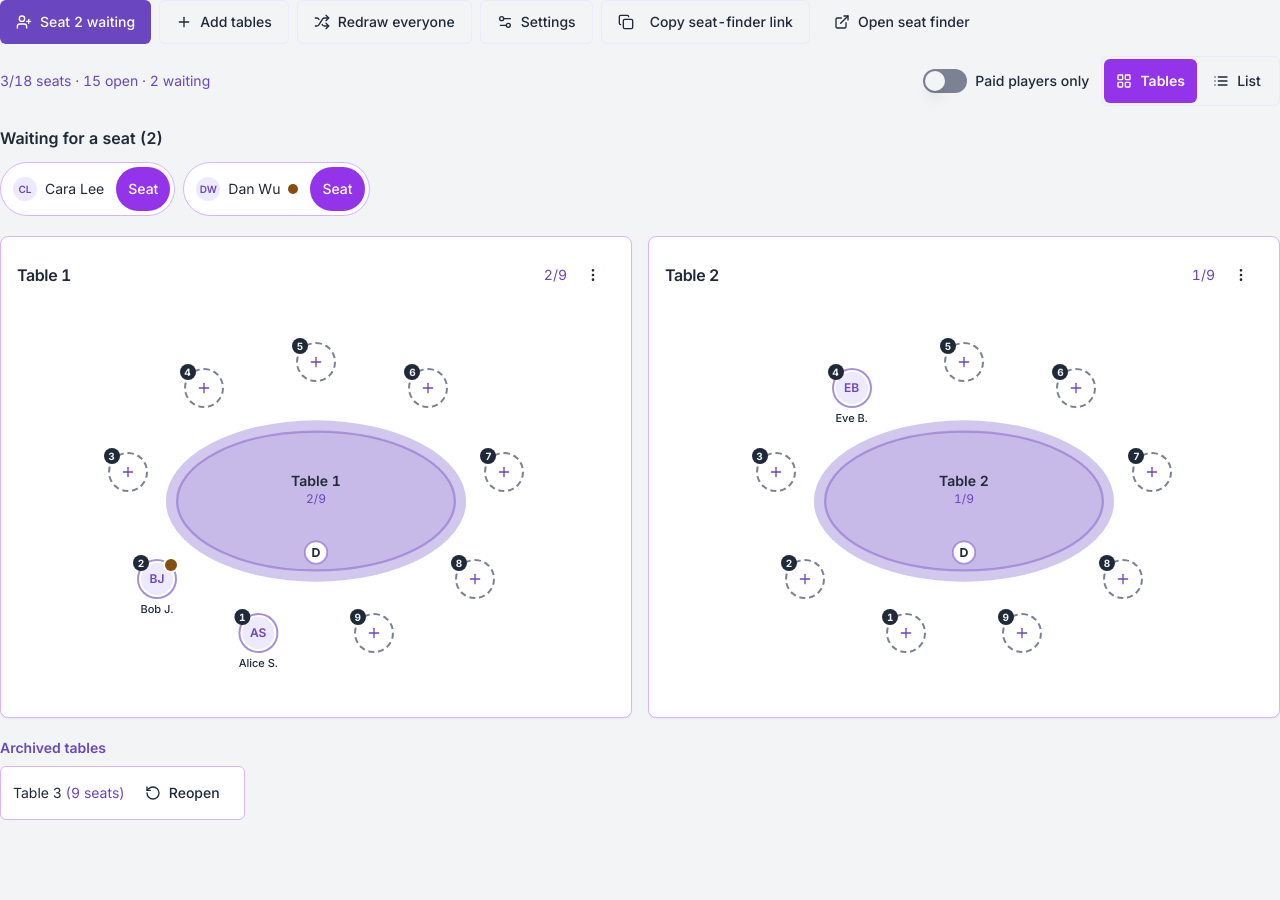
Test case: SeatingPanel: setting up › adds tables numbered after the highest, archived ones included
The image size is (1280, 900).
Click the button "Add tables": [224, 22] box [159,0,289,44]
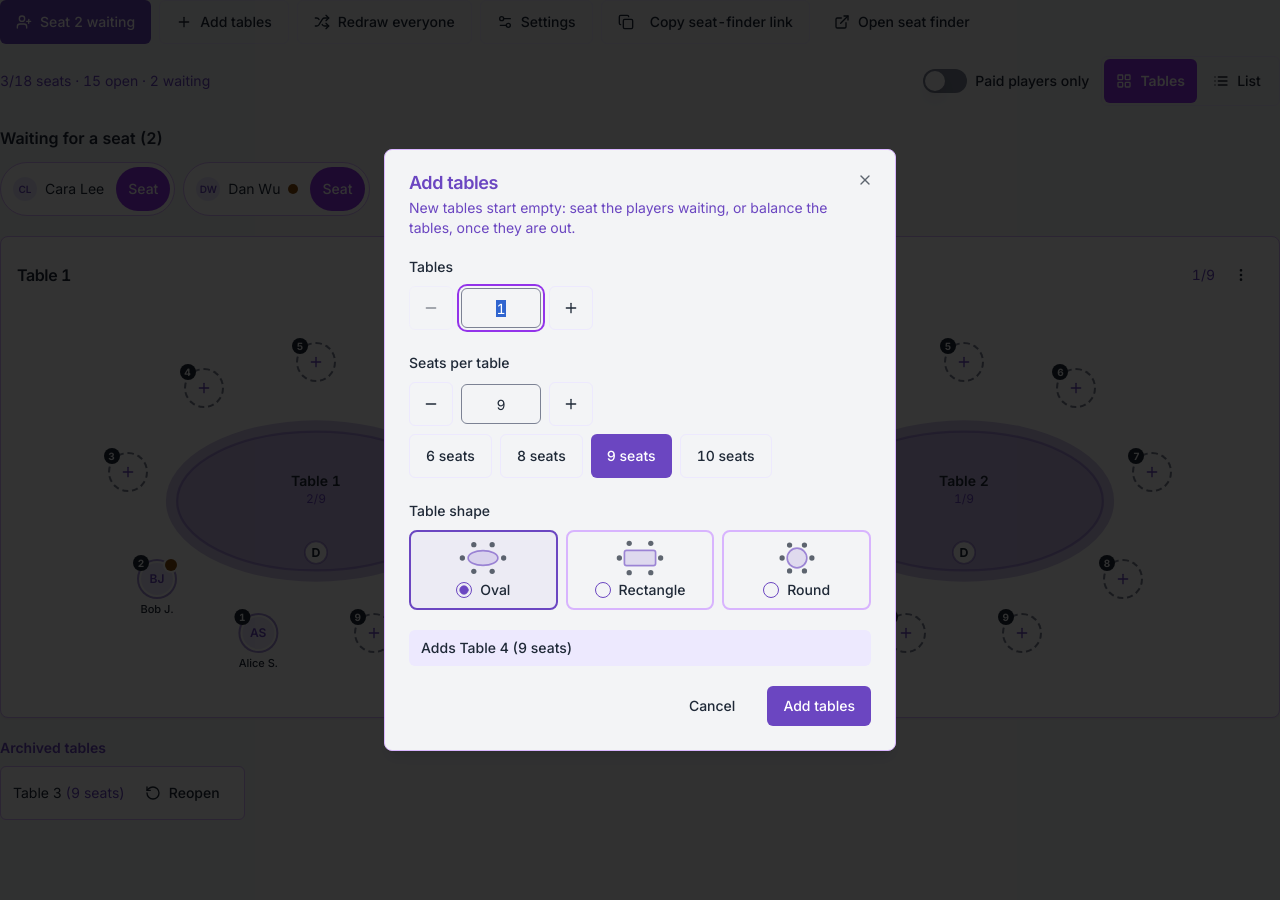
Expected: the text "Adds Table 4 (9 seats)" is shown, [409,630,871,666]
Click the button named "More tables": [571, 308] box [549,286,593,330]
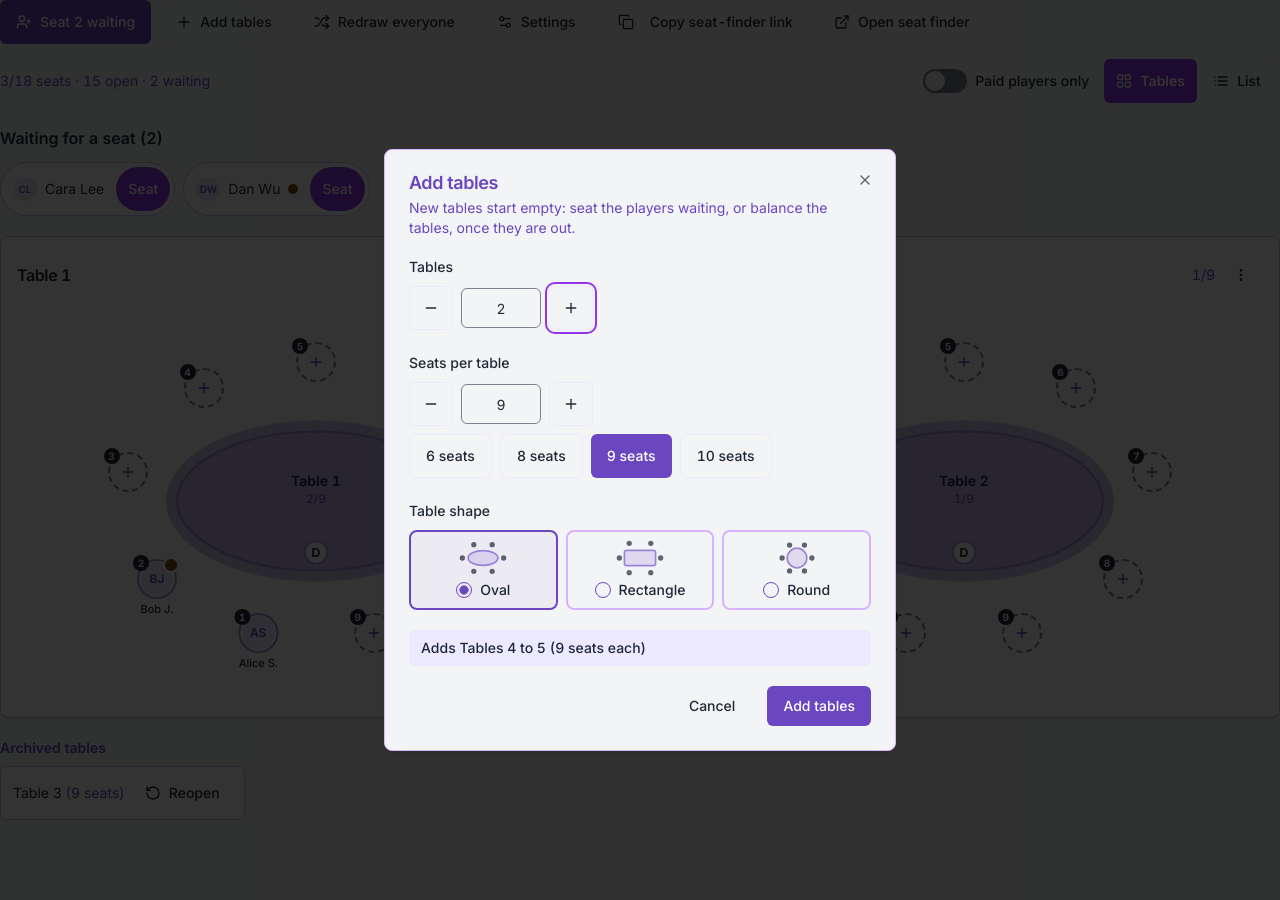
Expected: the text "Adds Tables 4 to 5 (9 seats each)" is shown, [409,630,871,666]
Click the button "Add tables": [819, 706] box [767,686,871,726]
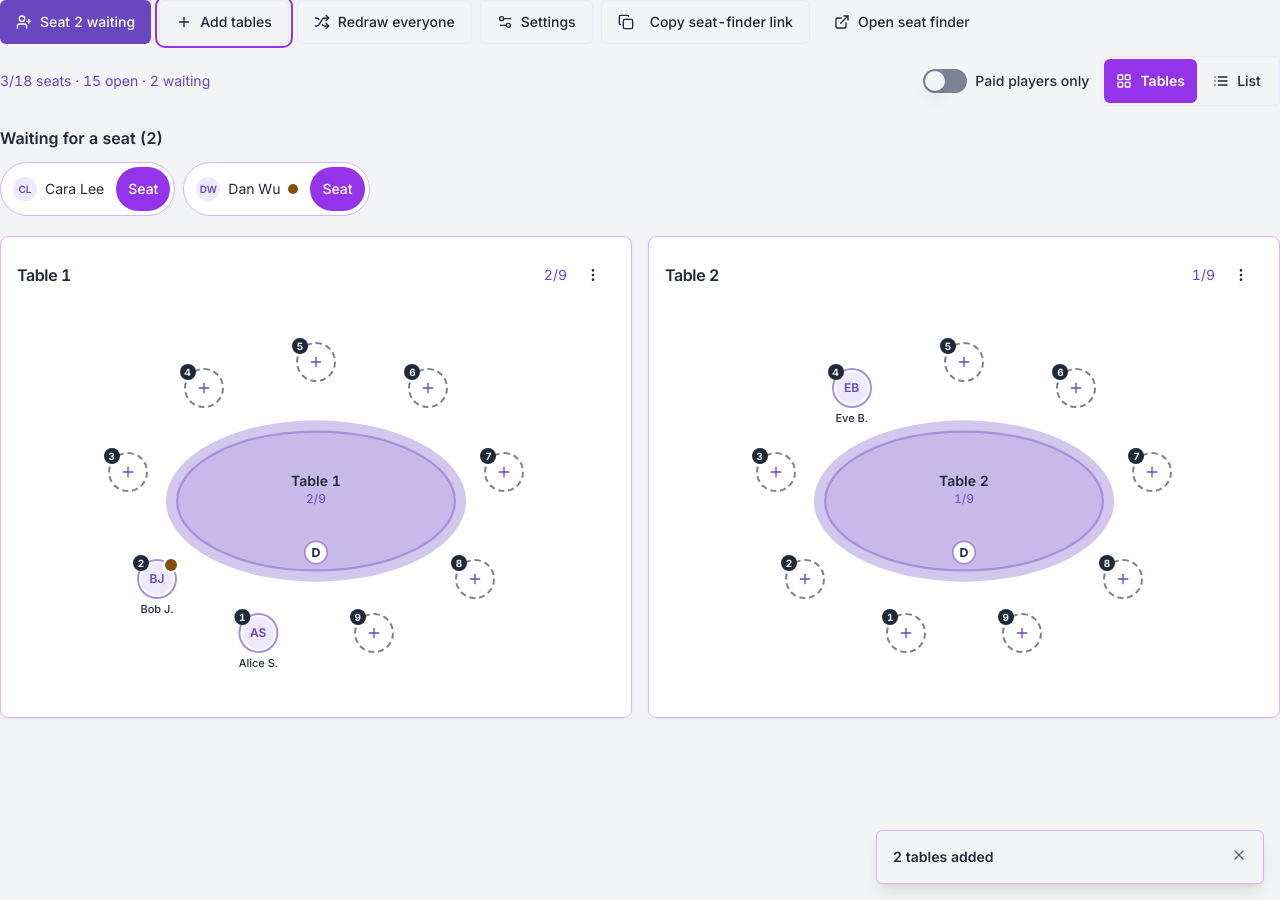
Expected: the text "2 tables added" is shown, [893,848,994,865]
